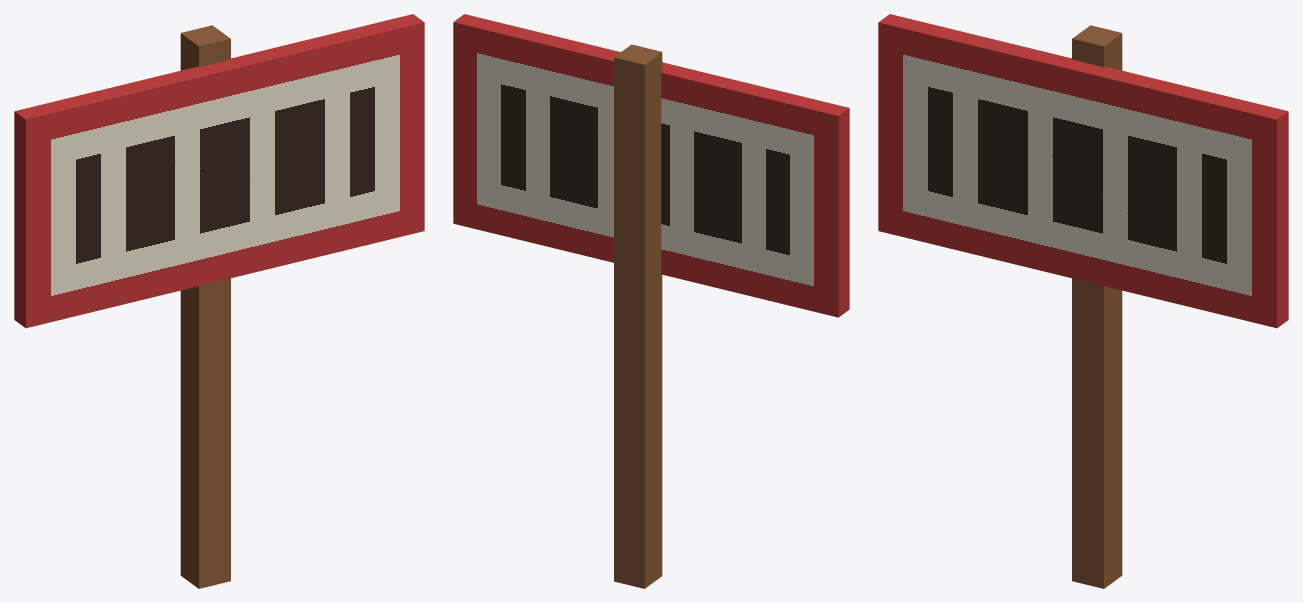
Rendered from sale_sign.glb.
The picture shows the model from 3 angles, left to right: view 1: azimuth 30°, elevation 25°; view 2: azimuth 150°, elevation 25°; view 3: azimuth 330°, elevation 25°; orthographic projection. The views are drawn at different scales.
Parts seen in each view (by area): view 1: sale_sign; view 2: sale_sign; view 3: sale_sign.
Part boxes in pixels (left/top/right/bottom): sale_sign: left=14, top=14, right=424, bottom=588; sale_sign: left=453, top=14, right=849, bottom=588; sale_sign: left=878, top=14, right=1288, bottom=588.
Size of the model in its own units: 1 by 1.3 by 0.125.
Materials: 2 (2 with a texture image).
